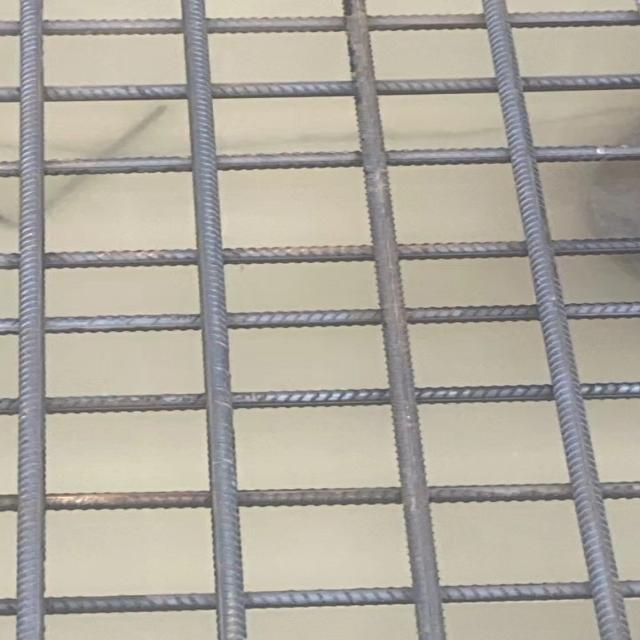ribbed bar: (479, 0, 633, 639), (342, 0, 453, 639), (179, 0, 249, 639), (0, 236, 638, 272), (0, 580, 638, 616), (0, 143, 638, 177), (0, 302, 638, 336), (12, 0, 45, 639), (0, 480, 638, 512), (0, 382, 638, 413), (0, 72, 638, 100), (0, 11, 638, 35)
